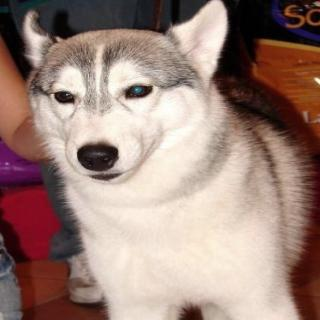dog: (13, 5, 252, 190)
nose: (73, 138, 125, 173)
